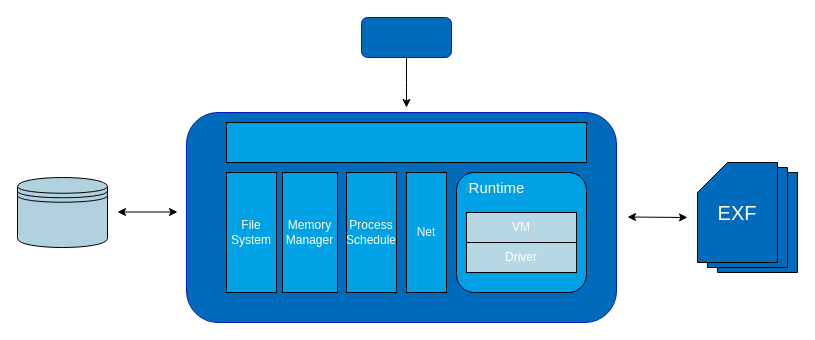
Image size: 815x340. Some labels were removed from this diagram. Here are the shapes that lost their labels. From the top down, the box of each, then its label:
(360, 16, 452, 58): Jctl
(226, 122, 586, 162): Shell
(16, 176, 108, 248): Repository
